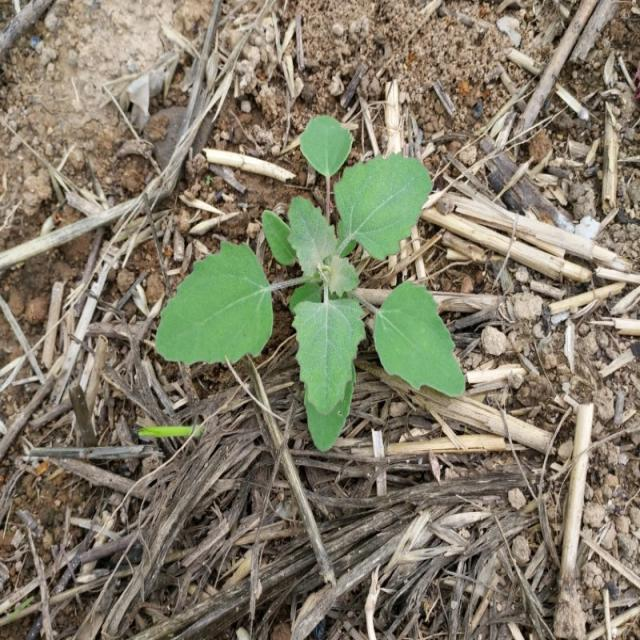ca: (156, 112, 468, 454)
